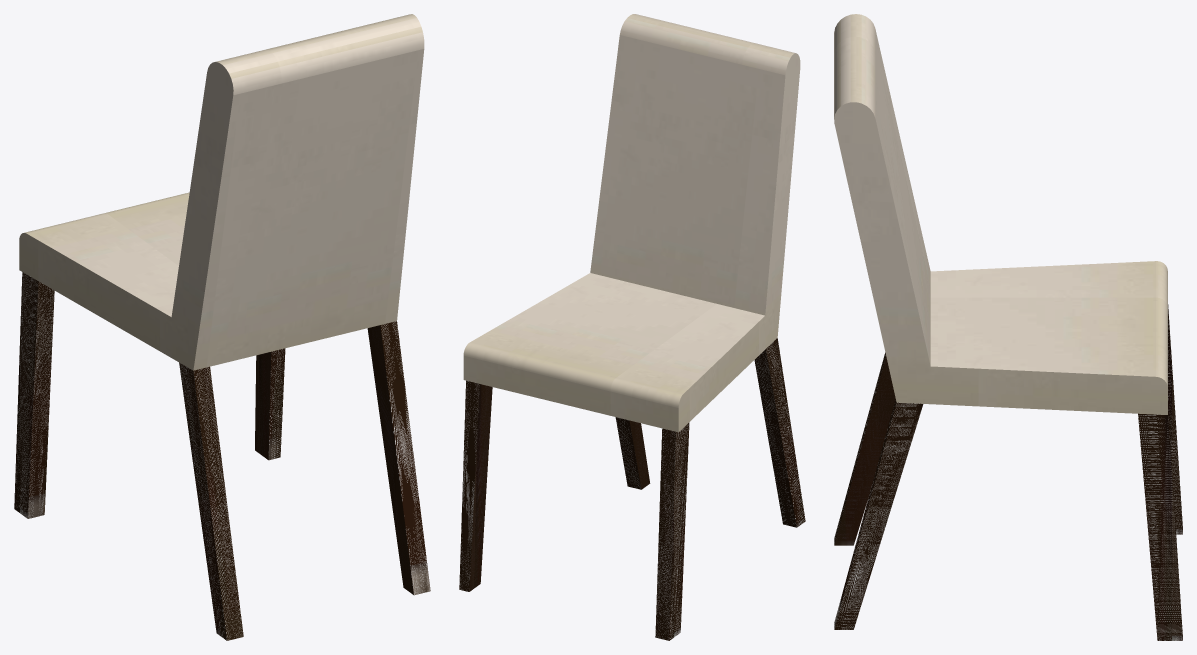
3 renders of one model, left to right at view 1: azimuth 30°, elevation 25°; view 2: azimuth 150°, elevation 25°; view 3: azimuth 270°, elevation 25°, orthographic. The views are drawn at different scales.
Parts seen in each view (by area): view 1: mesh5_mesh5-geometry, mesh1_mesh1-geometry, mesh4_mesh4-geometry, mesh2_mesh2-geometry, mesh3_mesh3-geometry; view 2: mesh5_mesh5-geometry, mesh2_mesh2-geometry, mesh3_mesh3-geometry, mesh1_mesh1-geometry, mesh4_mesh4-geometry; view 3: mesh5_mesh5-geometry, mesh3_mesh3-geometry, mesh4_mesh4-geometry, mesh1_mesh1-geometry, mesh2_mesh2-geometry.
Part boxes in pixels (<box>): mesh5_mesh5-geometry: <box>19,14,424,370</box>; mesh1_mesh1-geometry: <box>179,362,243,640</box>; mesh4_mesh4-geometry: <box>367,321,430,595</box>; mesh2_mesh2-geometry: <box>14,272,54,518</box>; mesh3_mesh3-geometry: <box>255,348,285,460</box>; mesh5_mesh5-geometry: <box>463,14,800,432</box>; mesh2_mesh2-geometry: <box>655,422,689,640</box>; mesh3_mesh3-geometry: <box>459,380,492,591</box>; mesh1_mesh1-geometry: <box>754,338,805,527</box>; mesh4_mesh4-geometry: <box>615,417,650,489</box>; mesh5_mesh5-geometry: <box>834,14,1167,414</box>; mesh3_mesh3-geometry: <box>1138,411,1182,640</box>; mesh4_mesh4-geometry: <box>834,399,923,629</box>; mesh1_mesh1-geometry: <box>834,352,895,545</box>; mesh2_mesh2-geometry: <box>1168,304,1182,534</box>.
Bounding box in the file's own units: 0.3781 × 0.7935 × 0.477.
Materials: 5 (3 with a texture image).
